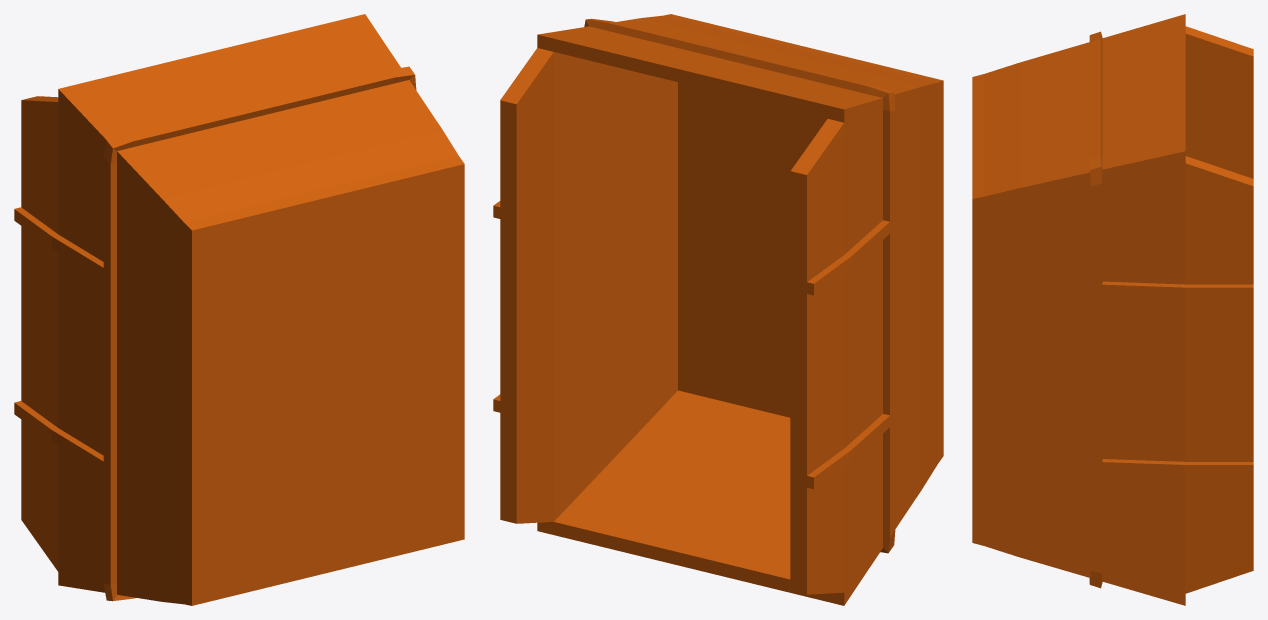
Rendered from dumpster-orange.fbx.
3 renders of one model, left to right at view 1: azimuth 30°, elevation 25°; view 2: azimuth 150°, elevation 25°; view 3: azimuth 270°, elevation 25°, orthographic. The views are drawn at different scales.
Parts seen in each view (by area): view 1: dumpster-orange; view 2: dumpster-orange; view 3: dumpster-orange.
Boxes of the visible parts, x1,y1,x2,y2 form: dumpster-orange: [14, 14, 464, 605]; dumpster-orange: [493, 14, 943, 605]; dumpster-orange: [972, 14, 1253, 605].
Bounding box in the file's own units: 2.5 × 3.71 × 2.08.
